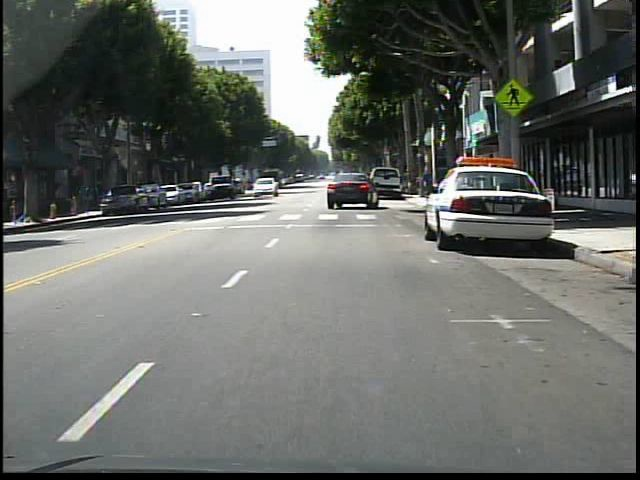person: (420, 165, 442, 206)
